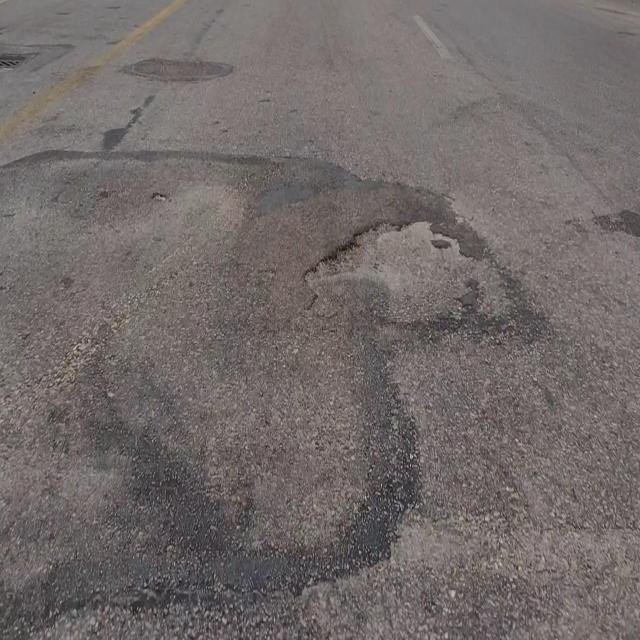Potholes: (305, 214, 500, 313)
